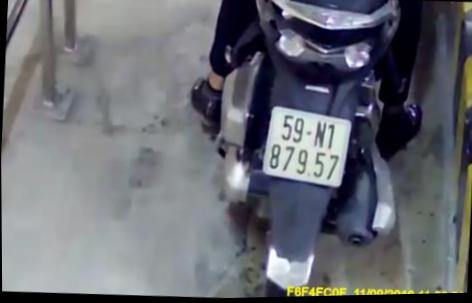LP: (259, 95, 357, 194)
